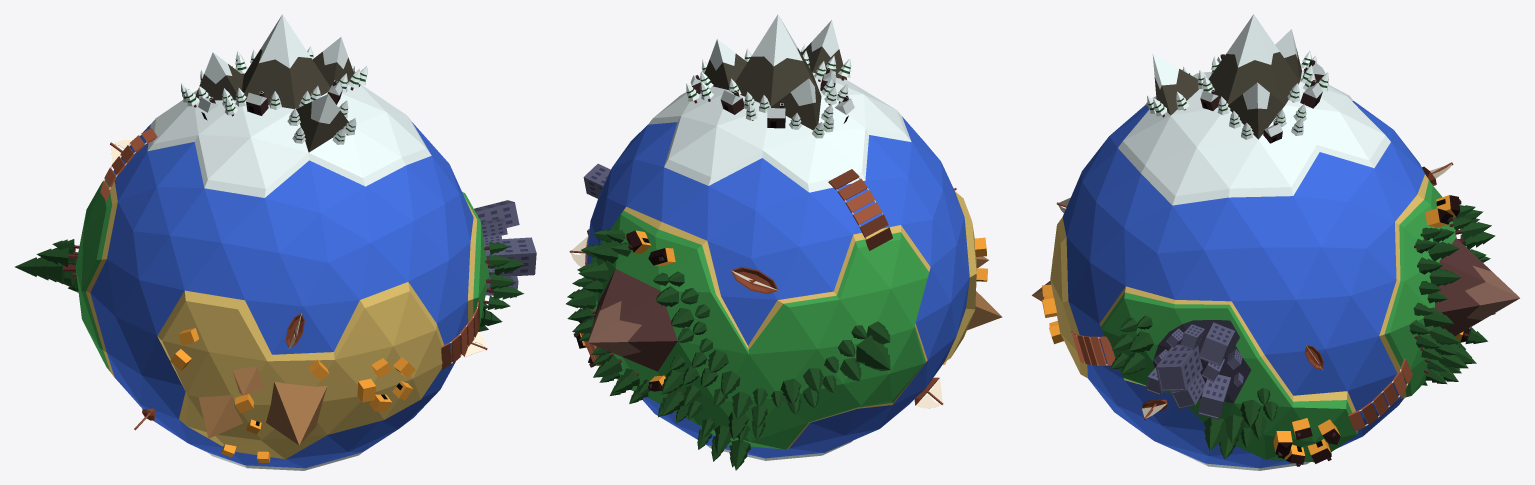
The picture shows the model from 3 angles, left to right: view 1: azimuth 30°, elevation 25°; view 2: azimuth 150°, elevation 25°; view 3: azimuth 270°, elevation 25°; orthographic projection. The views are drawn at different scales.
Parts seen in each view (by area): view 1: Planet_Water_0, Planet_Sand_0, Planet_Snow_0, Planet_MountainNorth_0, Planet_Grass_0, Cone_003_Pyramid_0, Cone_001_Pyramid_0, Building_Skyscraper_0, Cube_002_Bridge_0, Cube_Bridge_0, Cone_236_Tree_Leaves_0, Building_004_Skyscraper_0 (+1 smaller); view 2: Planet_Water_0, Planet_Grass_0, Planet_Snow_0, Planet_MountainNorth_0, Planet_Sand_0, Planet_MountainMid_0, Cube_Bridge_0, Planet_MountainMidTop_0, Cone_236_Tree_Leaves_0, Boat_001_Sail_Boat_Wood_0, Cone_001_Pyramid_0, Building_004_Skyscraper_0; view 3: Planet_Water_0, Planet_Snow_0, Planet_Grass_0, Planet_MountainNorth_0, Planet_Sand_0, Planet_MountainMid_0, Planet_Asphalt_0, Building_Skyscraper_0, Planet_MountainMidTop_0, Cube_001_Bridge_0, Cube_002_Bridge_0, Building_004_Skyscraper_0 (+3 smaller).
Boxes of the visible parts, bbox=[...] form: Planet_Water_0: bbox=[90, 122, 473, 468]; Planet_Sand_0: bbox=[86, 182, 477, 459]; Planet_Snow_0: bbox=[147, 14, 431, 470]; Planet_MountainNorth_0: bbox=[195, 49, 353, 152]; Planet_Grass_0: bbox=[75, 180, 489, 371]; Cone_003_Pyramid_0: bbox=[266, 381, 327, 445]; Cone_001_Pyramid_0: bbox=[198, 394, 242, 438]; Building_Skyscraper_0: bbox=[485, 237, 536, 276]; Cube_002_Bridge_0: bbox=[441, 300, 480, 369]; Cube_Bridge_0: bbox=[100, 128, 157, 201]; Cone_236_Tree_Leaves_0: bbox=[15, 257, 64, 283]; Building_004_Skyscraper_0: bbox=[474, 200, 519, 227]; Planet_Water_0: bbox=[586, 116, 969, 458]; Planet_Grass_0: bbox=[582, 210, 929, 449]; Planet_Snow_0: bbox=[648, 14, 911, 460]; Planet_MountainNorth_0: bbox=[704, 42, 846, 130]; Planet_Sand_0: bbox=[591, 191, 976, 448]; Planet_MountainMid_0: bbox=[593, 269, 677, 371]; Cube_Bridge_0: bbox=[828, 169, 892, 250]; Planet_MountainMidTop_0: bbox=[588, 301, 641, 356]; Cone_236_Tree_Leaves_0: bbox=[856, 335, 890, 371]; Boat_001_Sail_Boat_Wood_0: bbox=[731, 266, 778, 293]; Cone_001_Pyramid_0: bbox=[967, 291, 1002, 330]; Building_004_Skyscraper_0: bbox=[583, 163, 610, 198]; Planet_Water_0: bbox=[1062, 101, 1424, 468]; Planet_Snow_0: bbox=[1118, 14, 1390, 470]; Planet_Grass_0: bbox=[1101, 180, 1456, 462]; Planet_MountainNorth_0: bbox=[1154, 49, 1301, 139]; Planet_Sand_0: bbox=[1050, 174, 1428, 412]; Planet_MountainMid_0: bbox=[1434, 238, 1491, 335]; Planet_Asphalt_0: bbox=[1153, 320, 1250, 402]; Building_Skyscraper_0: bbox=[1156, 344, 1202, 391]; Planet_MountainMidTop_0: bbox=[1465, 265, 1519, 319]; Cube_001_Bridge_0: bbox=[1348, 358, 1412, 431]; Cube_002_Bridge_0: bbox=[1071, 330, 1115, 365]; Building_004_Skyscraper_0: bbox=[1198, 322, 1235, 366].
Size of the model in its own units: 236 by 245 by 246.
